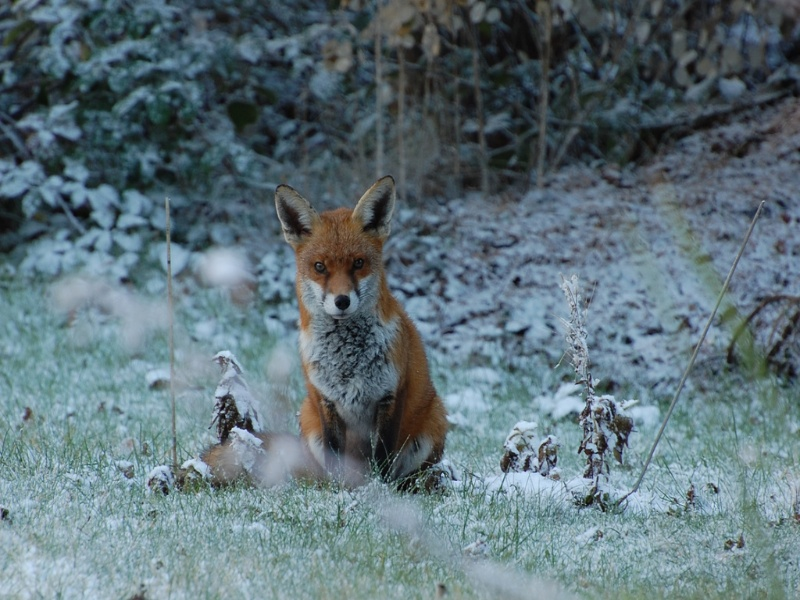fox: (267, 178, 464, 496)
